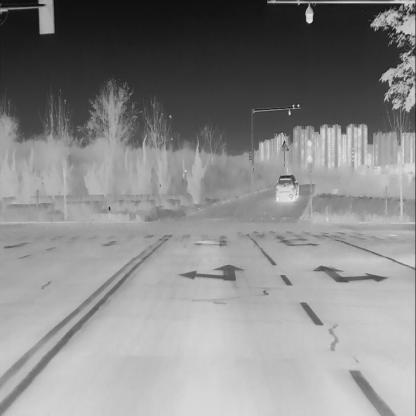car: (273, 172, 300, 202)
